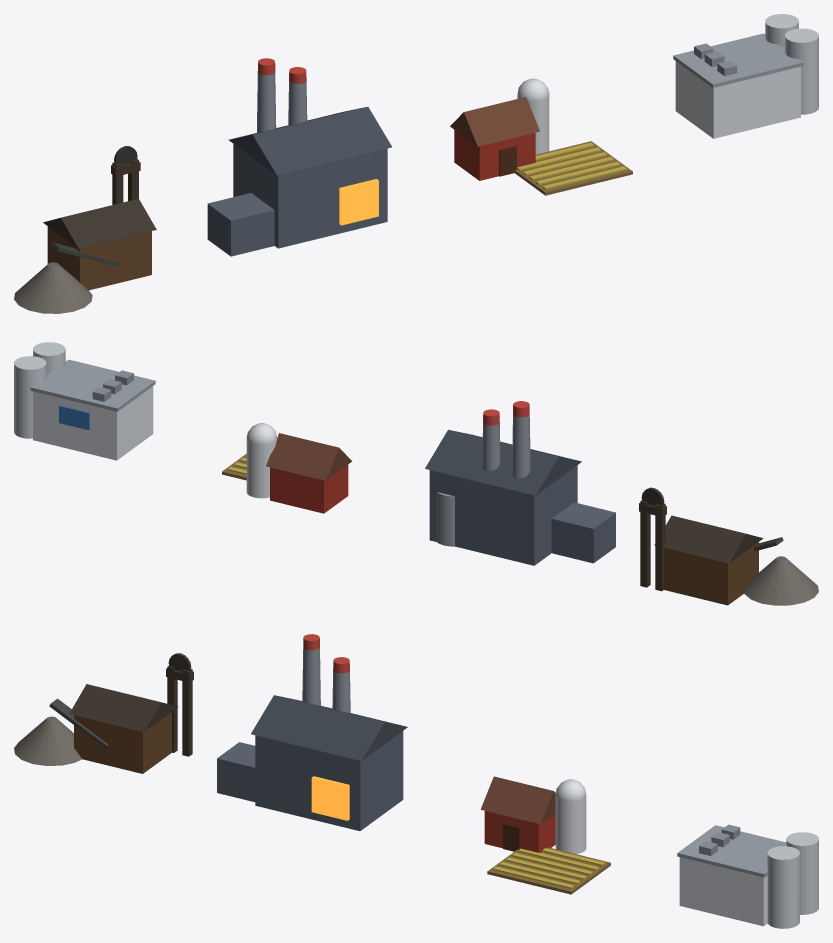
The model's file is industries.glb.
The picture shows the model from 3 angles, top to bottom: view 1: azimuth 30°, elevation 25°; view 2: azimuth 150°, elevation 25°; view 3: azimuth 330°, elevation 25°; orthographic projection. The views are drawn at different scales.
Visible parts, largest first — view 1: ind_steel, ind_food, ind_mine, ind_farm, glow; view 2: ind_steel, ind_food, ind_mine, ind_farm; view 3: ind_steel, ind_food, ind_mine, ind_farm, glow.
Part boxes in pixels (<box>): ind_steel: <box>207,58,391,256</box>; ind_food: <box>673,14,818,138</box>; ind_mine: <box>14,146,156,313</box>; ind_farm: <box>450,78,632,195</box>; glow: <box>339,179,378,225</box>; ind_steel: <box>425,401,615,565</box>; ind_food: <box>14,342,155,460</box>; ind_mine: <box>639,487,818,605</box>; ind_farm: <box>222,423,352,513</box>; ind_steel: <box>217,634,407,830</box>; ind_food: <box>677,824,818,928</box>; ind_mine: <box>14,653,193,773</box>; ind_farm: <box>480,776,610,894</box>; glow: <box>311,776,349,820</box>.
Bounding box in the file's own units: 51.55 × 9.5 × 6.7.
